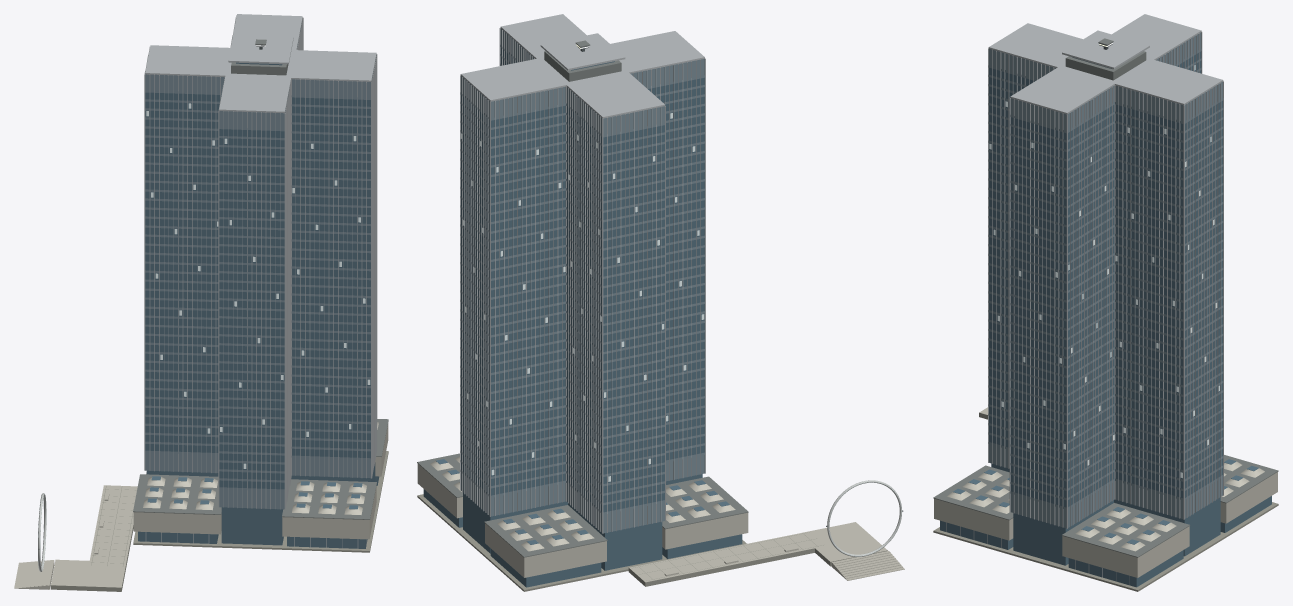
File: place-ville-marie-near.glb
3 renders of one model, left to right at view 1: azimuth 30°, elevation 25°; view 2: azimuth 150°, elevation 25°; view 3: azimuth 270°, elevation 25°, orthographic. The views are drawn at different scales.
Visible parts, largest first — view 1: place-ville-marie-0-glass, place-ville-marie-0-lattice, place-ville-marie-0-museum, place-ville-marie-0-concrete, place-ville-marie-0-roof, place-ville-marie-0-stone, place-ville-marie-0-iron; view 2: place-ville-marie-0-glass, place-ville-marie-0-lattice, place-ville-marie-0-museum, place-ville-marie-0-concrete, place-ville-marie-0-roof, place-ville-marie-0-stone, place-ville-marie-0-iron, place-ville-marie-0-paint; view 3: place-ville-marie-0-glass, place-ville-marie-0-lattice, place-ville-marie-0-museum, place-ville-marie-0-concrete, place-ville-marie-0-roof, place-ville-marie-0-stone, place-ville-marie-0-iron.
Boxes of the visible parts, box(x1,y1,x2,y2) form: place-ville-marie-0-glass: box(138, 62, 379, 548); place-ville-marie-0-lattice: box(144, 14, 377, 548); place-ville-marie-0-museum: box(145, 21, 376, 509); place-ville-marie-0-concrete: box(14, 422, 388, 589); place-ville-marie-0-roof: box(133, 39, 388, 519); place-ville-marie-0-stone: box(50, 451, 388, 591); place-ville-marie-0-iron: box(38, 103, 370, 570); place-ville-marie-0-glass: box(423, 47, 742, 587); place-ville-marie-0-lattice: box(460, 14, 705, 533); place-ville-marie-0-museum: box(460, 28, 704, 533); place-ville-marie-0-concrete: box(417, 456, 904, 582); place-ville-marie-0-roof: box(417, 40, 748, 557); place-ville-marie-0-stone: box(417, 494, 887, 591); place-ville-marie-0-iron: box(461, 113, 901, 556); place-ville-marie-0-paint: box(827, 480, 902, 556); place-ville-marie-0-glass: box(940, 51, 1271, 587); place-ville-marie-0-lattice: box(946, 14, 1223, 585); place-ville-marie-0-museum: box(988, 32, 1223, 528); place-ville-marie-0-concrete: box(934, 407, 1277, 577); place-ville-marie-0-roof: box(933, 38, 1278, 557); place-ville-marie-0-stone: box(933, 412, 1278, 591); place-ville-marie-0-iron: box(989, 65, 1219, 478).
Size of the model in its own units: 184 by 191 by 125.
